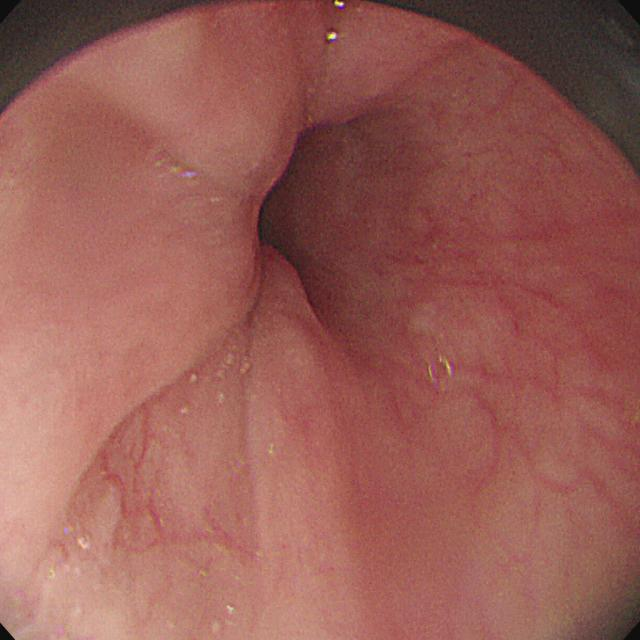E: (235, 103, 380, 333)
